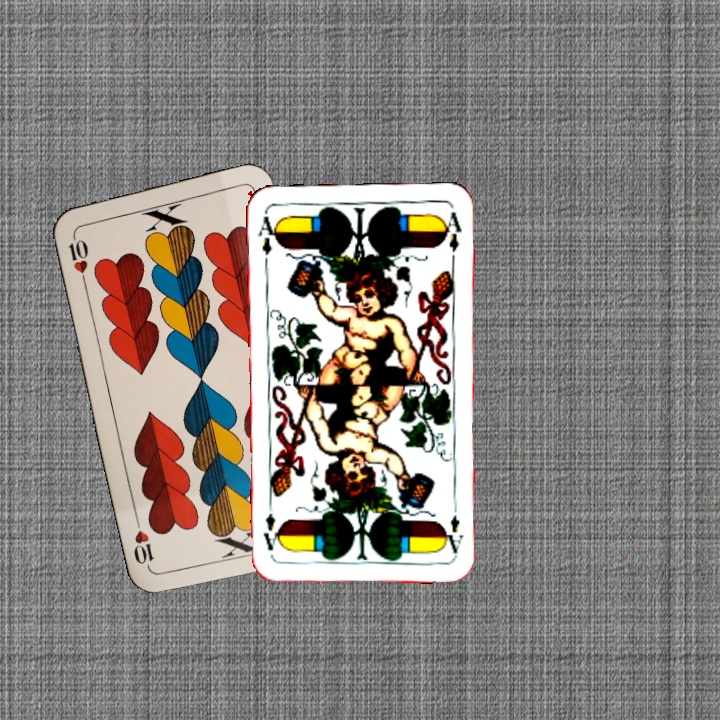EA: (254, 210, 281, 269), (444, 497, 466, 556)
H10: (64, 228, 90, 287)
